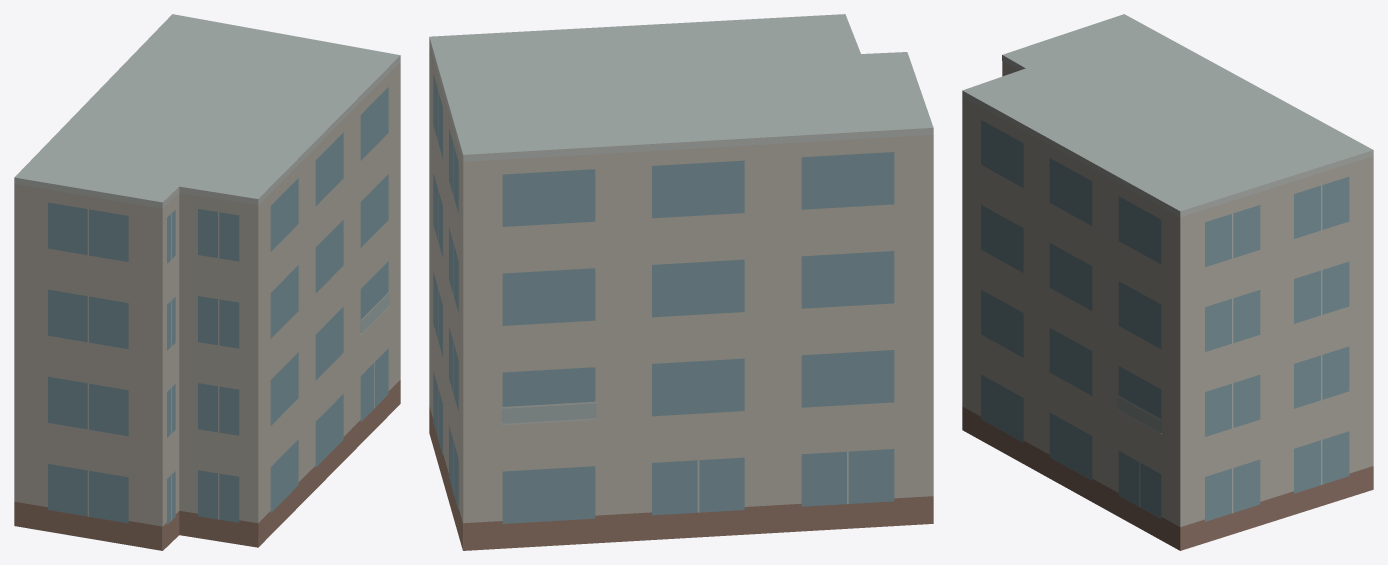
Rendered from survey-upis-32858228.glb.
3 renders of one model, left to right at view 1: azimuth 30°, elevation 25°; view 2: azimuth 150°, elevation 25°; view 3: azimuth 270°, elevation 25°, orthographic. The views are drawn at different scales.
Parts seen in each view (by area): view 1: survey-upis-32858228.tmp; view 2: survey-upis-32858228.tmp; view 3: survey-upis-32858228.tmp.
Boxes of the visible parts, bbox=[...] form: survey-upis-32858228.tmp: bbox=[14, 14, 400, 550]; survey-upis-32858228.tmp: bbox=[429, 14, 933, 550]; survey-upis-32858228.tmp: bbox=[962, 14, 1373, 550].
Bounding box in the file's own units: 17.08 × 13.7 × 15.05.
